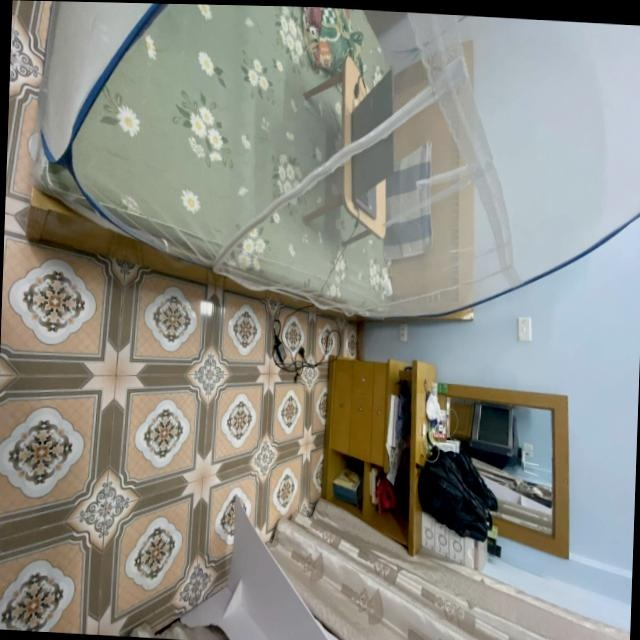outlet: (396, 323, 408, 342)
